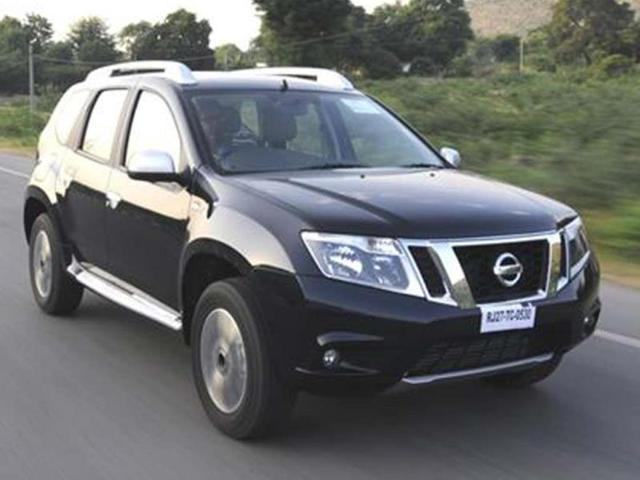number_plate: (475, 296, 543, 338)
